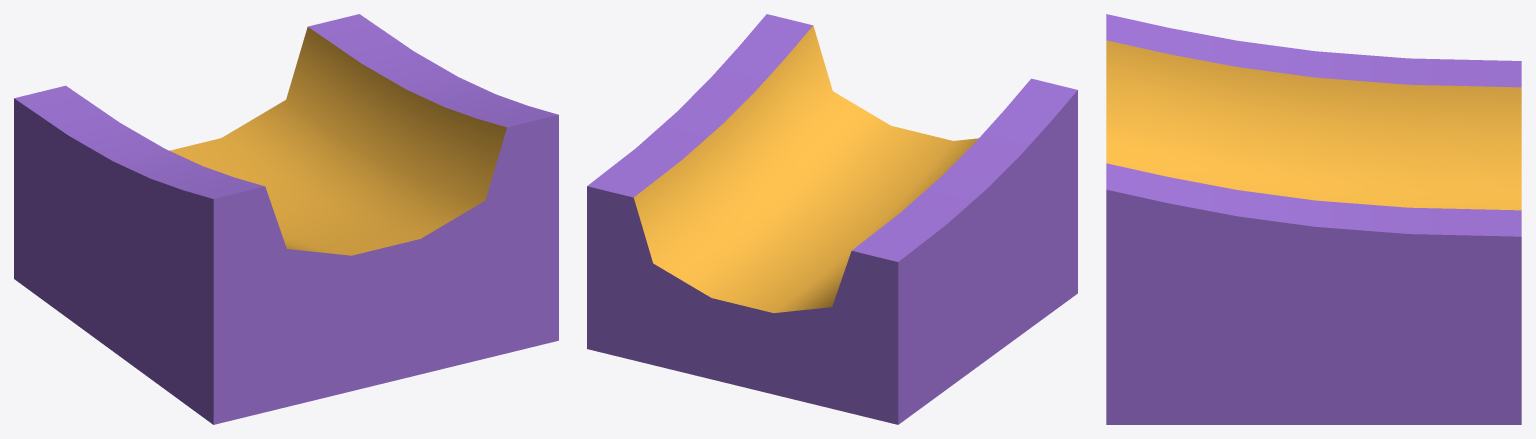
Rendered from ramp-start-solid-a.glb.
The picture shows the model from 3 angles, left to right: view 1: azimuth 30°, elevation 25°; view 2: azimuth 150°, elevation 25°; view 3: azimuth 270°, elevation 25°; orthographic projection. The views are drawn at different scales.
Parts seen in each view (by area): view 1: ramp-start-solid-a; view 2: ramp-start-solid-a; view 3: ramp-start-solid-a.
Part boxes in pixels (x1,y1,x2,y2): ramp-start-solid-a: (14,14,558,424); ramp-start-solid-a: (587,14,1077,424); ramp-start-solid-a: (1106,14,1521,424).
Bounding box in the file's own units: 1 × 0.625 × 1.
1 material, 1 textured.
